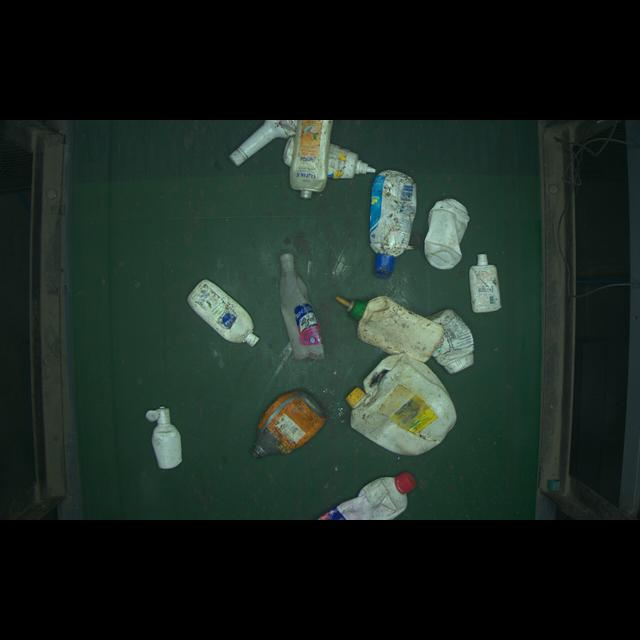mix PET: (345, 350, 459, 459), (179, 269, 268, 351), (246, 383, 326, 467), (274, 246, 332, 360), (137, 395, 201, 474)
